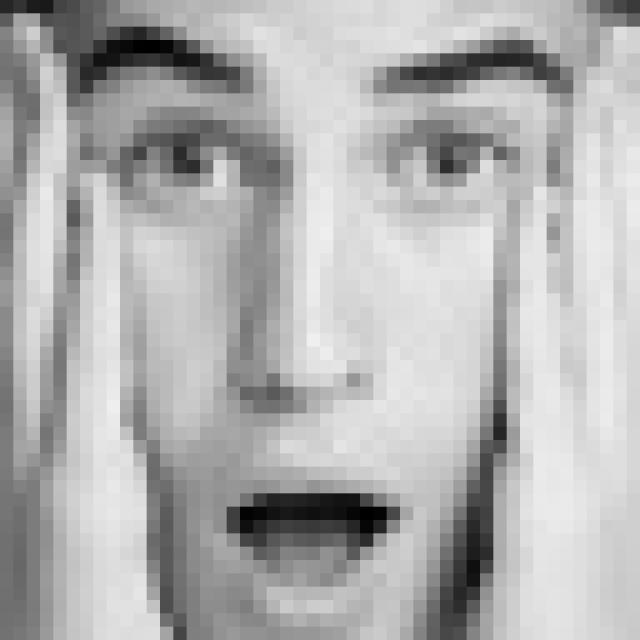surprise: (89, 11, 572, 625)
